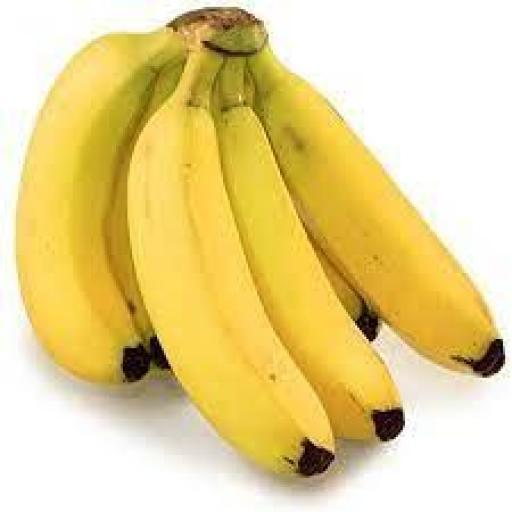banana: (128, 44, 334, 475), (251, 46, 505, 375), (217, 57, 402, 441), (16, 28, 184, 382)
